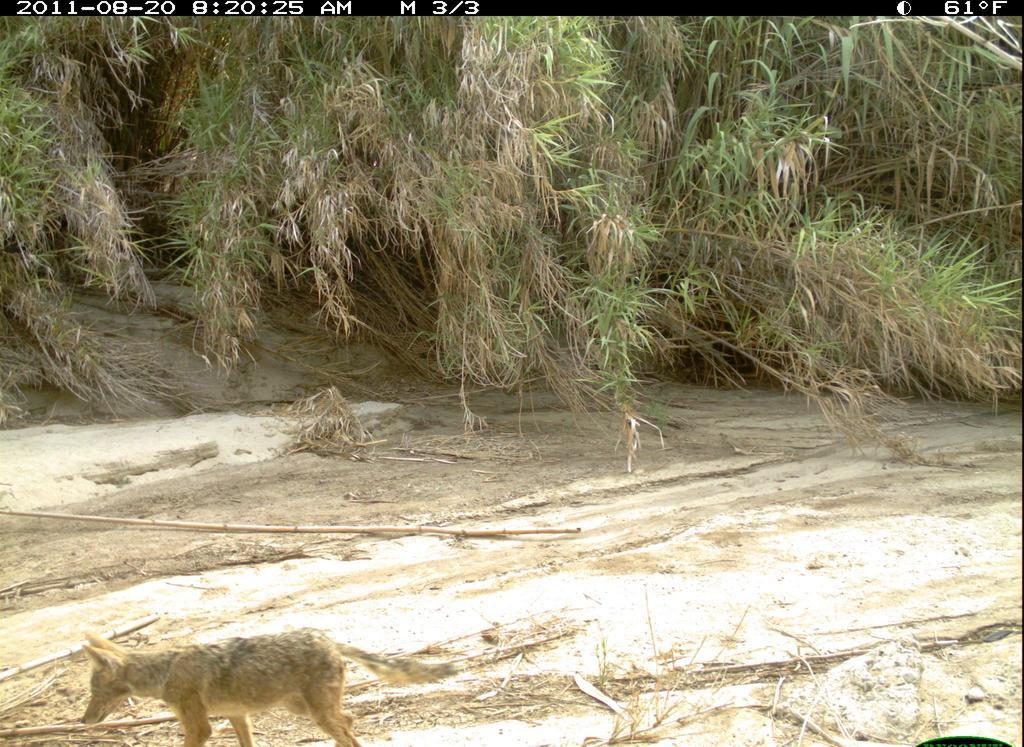coyote: (43, 614, 468, 743)
